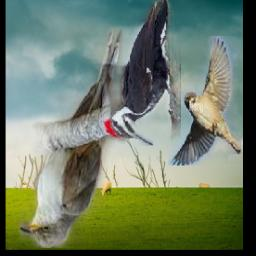Cuckoo: (19, 30, 124, 249)
Sparrow: (169, 36, 242, 166)
Woodpecker: (103, 0, 182, 147)
